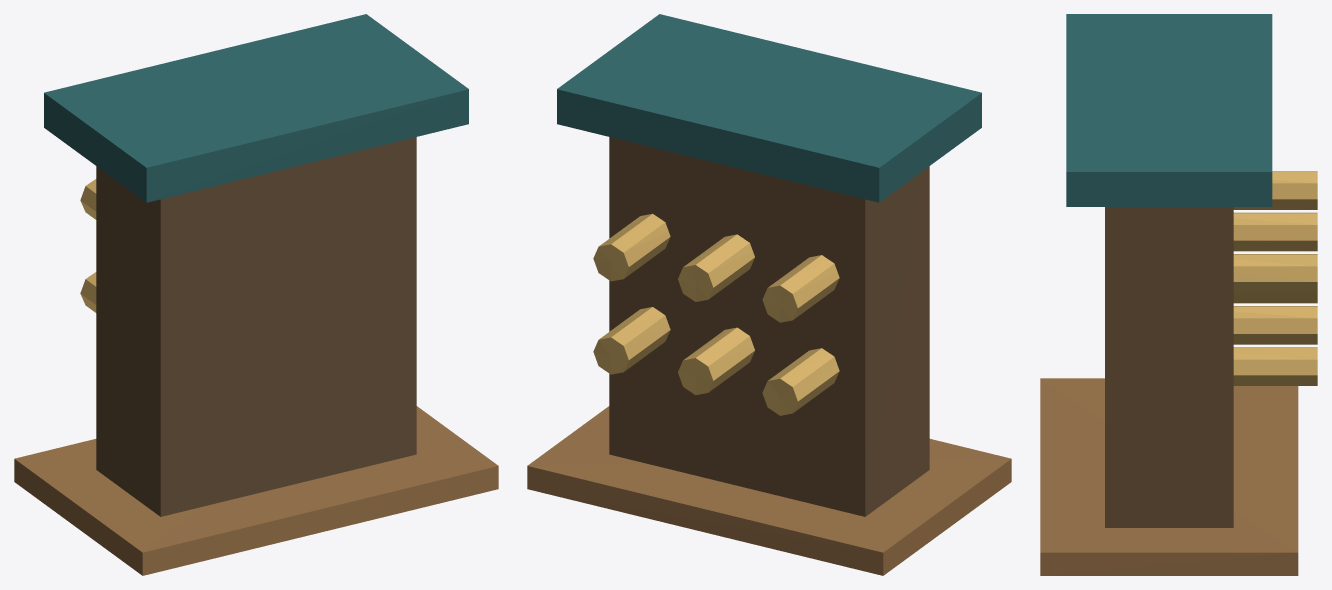
File: Bee-hotel.glb
3 views of the same model, side by side, from view 1: azimuth 30°, elevation 25°; view 2: azimuth 150°, elevation 25°; view 3: azimuth 270°, elevation 25° (orthographic).
Parts seen in each view (by area): view 1: bee-hotel-static-bee-hotel-timber, bee-hotel-static-bee-hotel-teal, bee-hotel-static-bee-hotel-earth, bee-hotel-static-bee-hotel-flower; view 2: bee-hotel-static-bee-hotel-timber, bee-hotel-static-bee-hotel-teal, bee-hotel-static-bee-hotel-earth, bee-hotel-static-bee-hotel-flower; view 3: bee-hotel-static-bee-hotel-timber, bee-hotel-static-bee-hotel-teal, bee-hotel-static-bee-hotel-earth, bee-hotel-static-bee-hotel-flower.
Part boxes in pixels (x1=…): bee-hotel-static-bee-hotel-timber: x1=96, y1=137, x2=416, y2=516; bee-hotel-static-bee-hotel-teal: x1=44, y1=14, x2=468, y2=202; bee-hotel-static-bee-hotel-earth: x1=14, y1=406, x2=498, y2=575; bee-hotel-static-bee-hotel-flower: x1=80, y1=179, x2=96, y2=312; bee-hotel-static-bee-hotel-timber: x1=609, y1=137, x2=929, y2=516; bee-hotel-static-bee-hotel-teal: x1=557, y1=14, x2=981, y2=202; bee-hotel-static-bee-hotel-earth: x1=527, y1=406, x2=1011, y2=575; bee-hotel-static-bee-hotel-flower: x1=593, y1=213, x2=839, y2=415; bee-hotel-static-bee-hotel-timber: x1=1105, y1=207, x2=1233, y2=527; bee-hotel-static-bee-hotel-teal: x1=1066, y1=14, x2=1272, y2=206; bee-hotel-static-bee-hotel-earth: x1=1040, y1=378, x2=1298, y2=575; bee-hotel-static-bee-hotel-flower: x1=1233, y1=171, x2=1317, y2=385.
Bounding box in the file's own units: 1.6 × 1.7 × 1.07.
